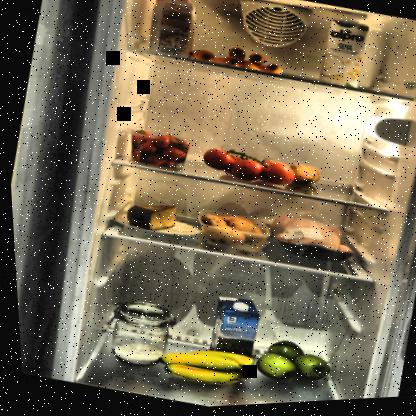apple: (242, 333, 331, 395)
banana: (149, 338, 254, 399)
carrot: (186, 36, 290, 86)
cheese: (121, 196, 179, 239)
chicken: (255, 209, 362, 275)
milk: (312, 17, 375, 97), (200, 293, 263, 371)
potato: (189, 208, 264, 256)
strawberries: (122, 125, 193, 177)
sweet_potato: (282, 162, 322, 194)
tomato: (192, 140, 298, 197)
